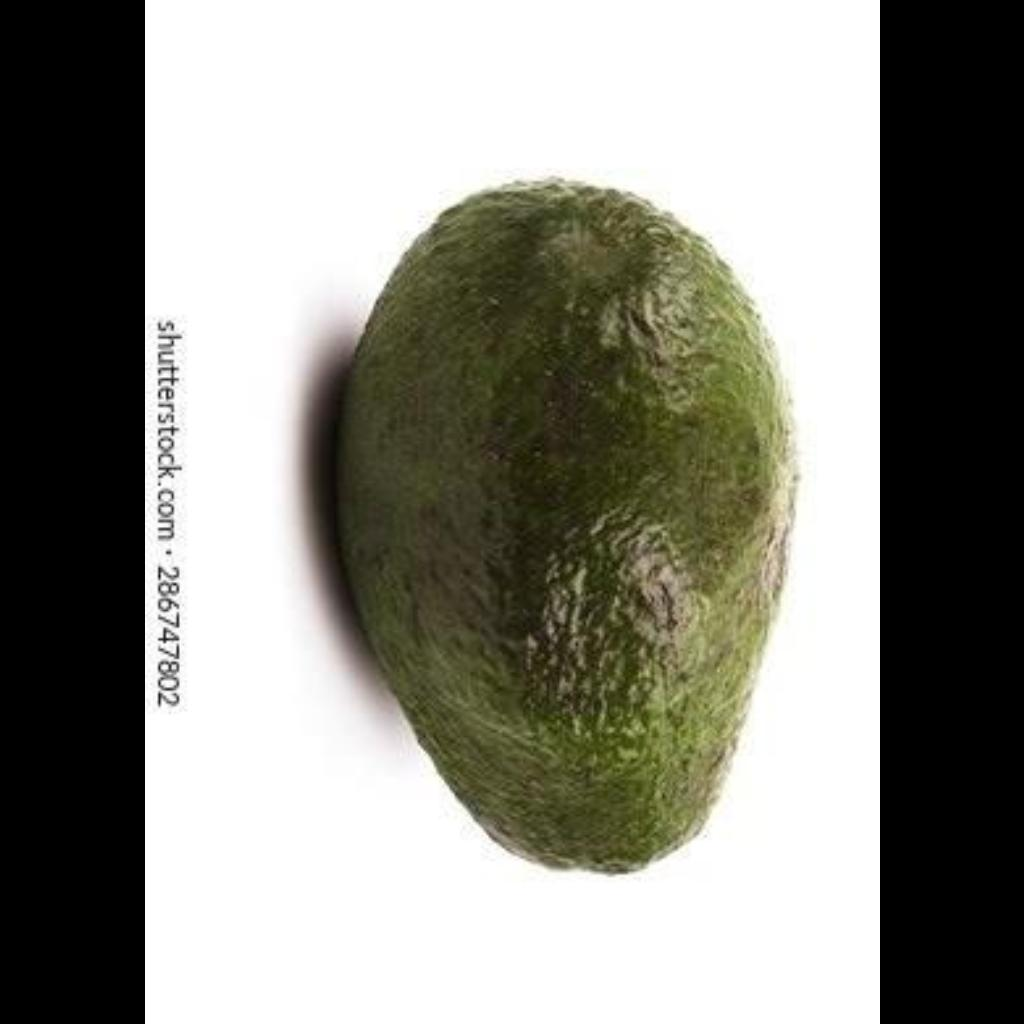antracnosis_fruto: (354, 193, 798, 834)
